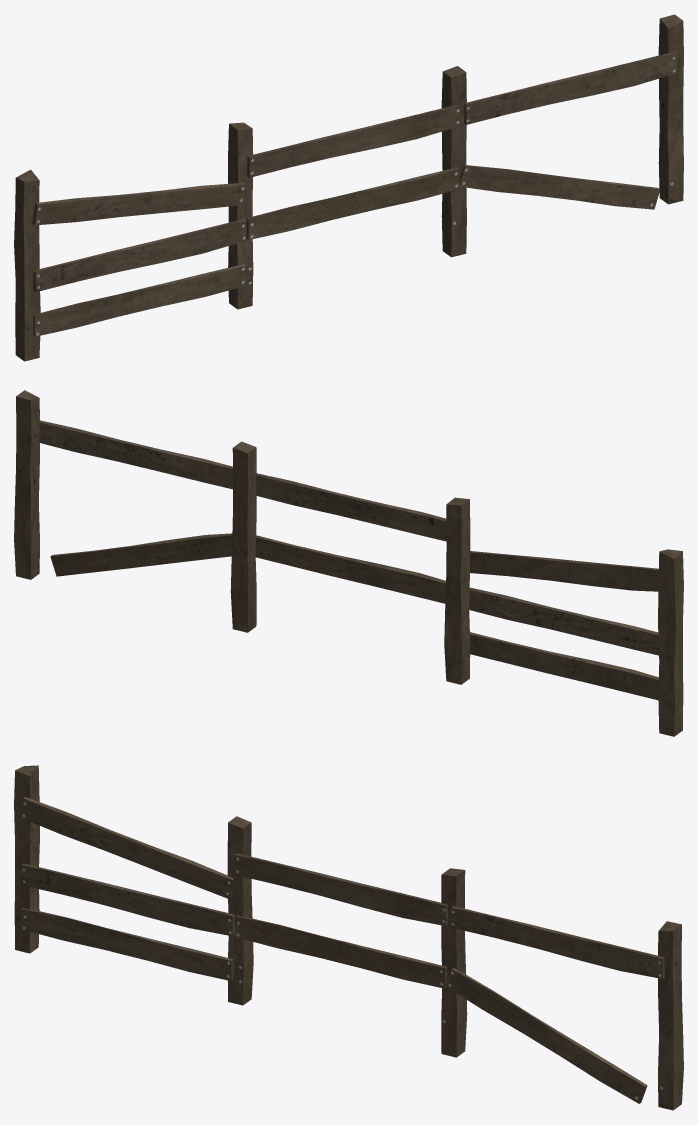
Rendered from Fence.fbx.
3 renders of one model, top to bottom at view 1: azimuth 30°, elevation 25°; view 2: azimuth 150°, elevation 25°; view 3: azimuth 330°, elevation 25°, orthographic.
Visible parts, largest first — view 1: plank_ground; view 2: plank_ground; view 3: plank_ground.
Part boxes in pixels (box(x1,y1,x2,y2)): plank_ground: box(14, 14, 683, 361); plank_ground: box(14, 390, 683, 736); plank_ground: box(14, 765, 683, 1110).
Bounding box in the file's own units: 20.84 × 5.47 × 0.6544.
